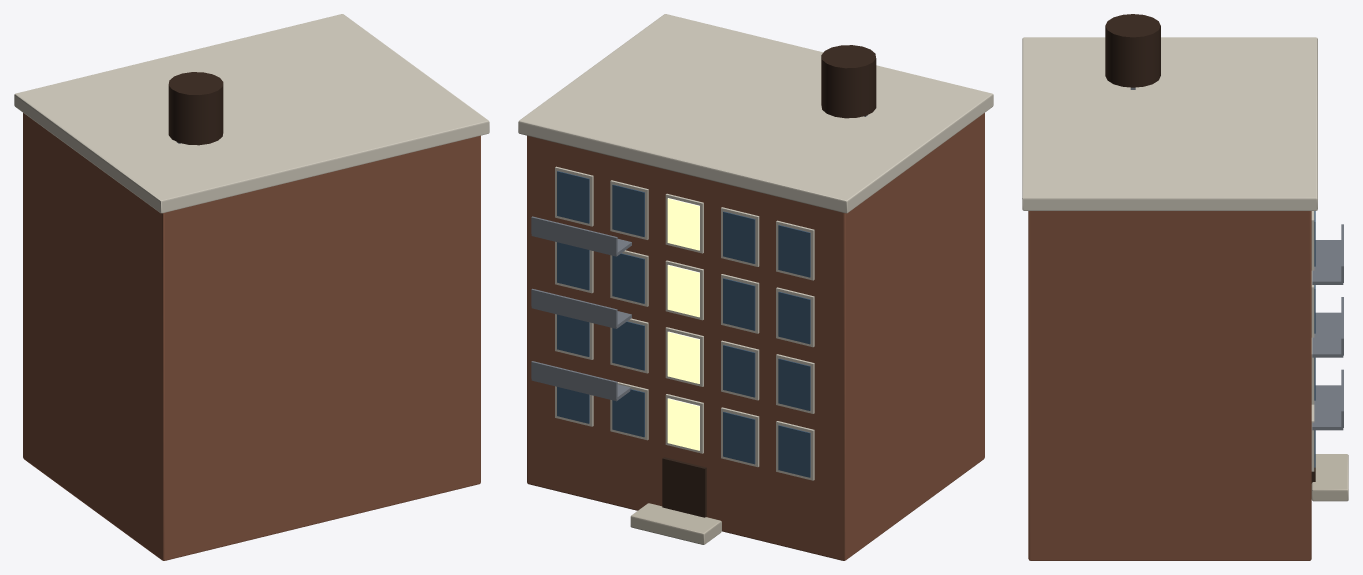
The model's file is tenement.glb.
The picture shows the model from 3 angles, left to right: view 1: azimuth 30°, elevation 25°; view 2: azimuth 150°, elevation 25°; view 3: azimuth 270°, elevation 25°; orthographic projection.
Visible parts, largest first — view 1: part-paint, part-trim, part-door; view 2: part-paint, part-trim, part-glass, part-door, part-glass-lit, part-metal, part-stone; view 3: part-paint, part-trim, part-metal, part-door, part-stone.
Boxes of the visible parts, x1,y1,x2,y2 form: part-paint: [23, 113, 480, 560]; part-trim: [14, 14, 489, 213]; part-door: [168, 72, 223, 145]; part-paint: [527, 113, 984, 560]; part-trim: [518, 14, 993, 480]; part-glass: [557, 171, 810, 477]; part-door: [662, 45, 876, 517]; part-glass-lit: [667, 198, 699, 450]; part-metal: [531, 115, 867, 401]; part-stone: [630, 503, 721, 544]; part-paint: [1028, 211, 1311, 560]; part-trim: [1022, 37, 1317, 471]; part-metal: [1130, 87, 1343, 430]; part-door: [1105, 14, 1315, 483]; part-stone: [1311, 454, 1348, 501].
Size of the model in its own units: 62 by 75.5 by 53.
